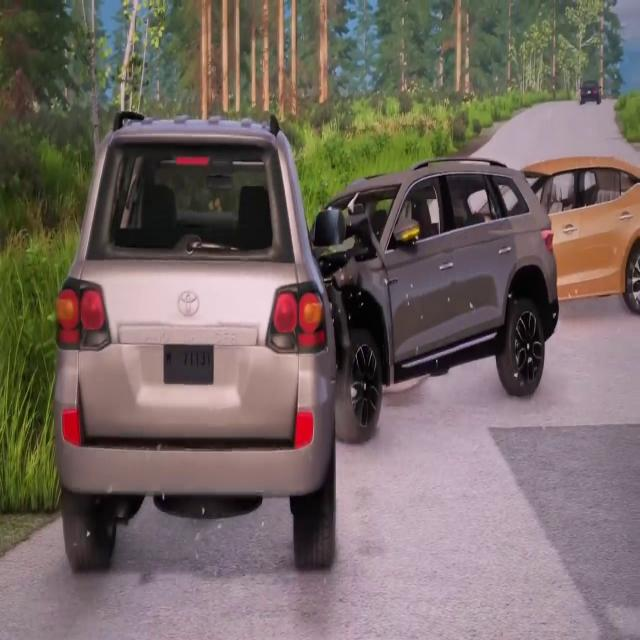accident: (62, 109, 562, 570)
